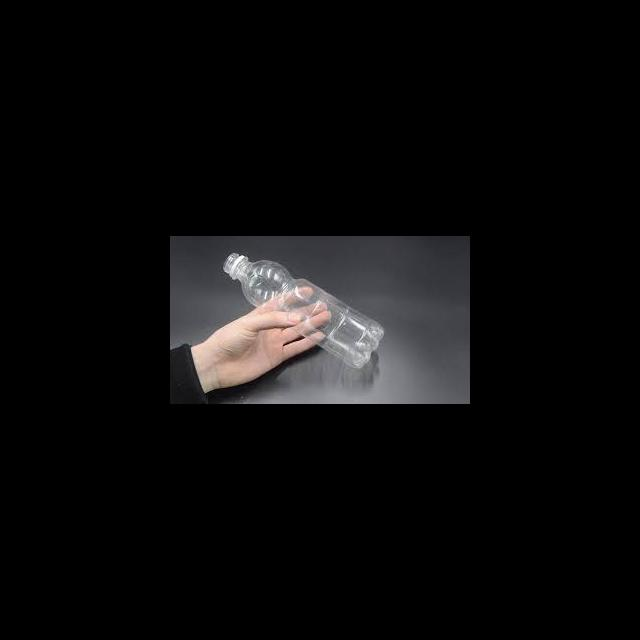plastic: (222, 251, 382, 367)
